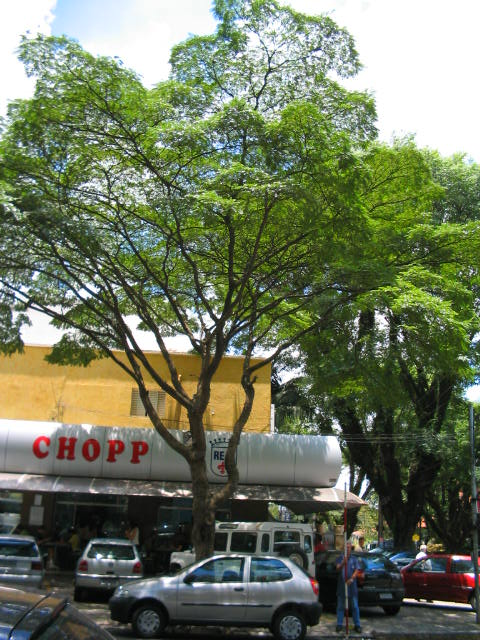crown: (5, 4, 473, 399)
stem: (180, 506, 227, 606)
stick: (336, 483, 354, 632)
tree: (2, 1, 475, 606)
